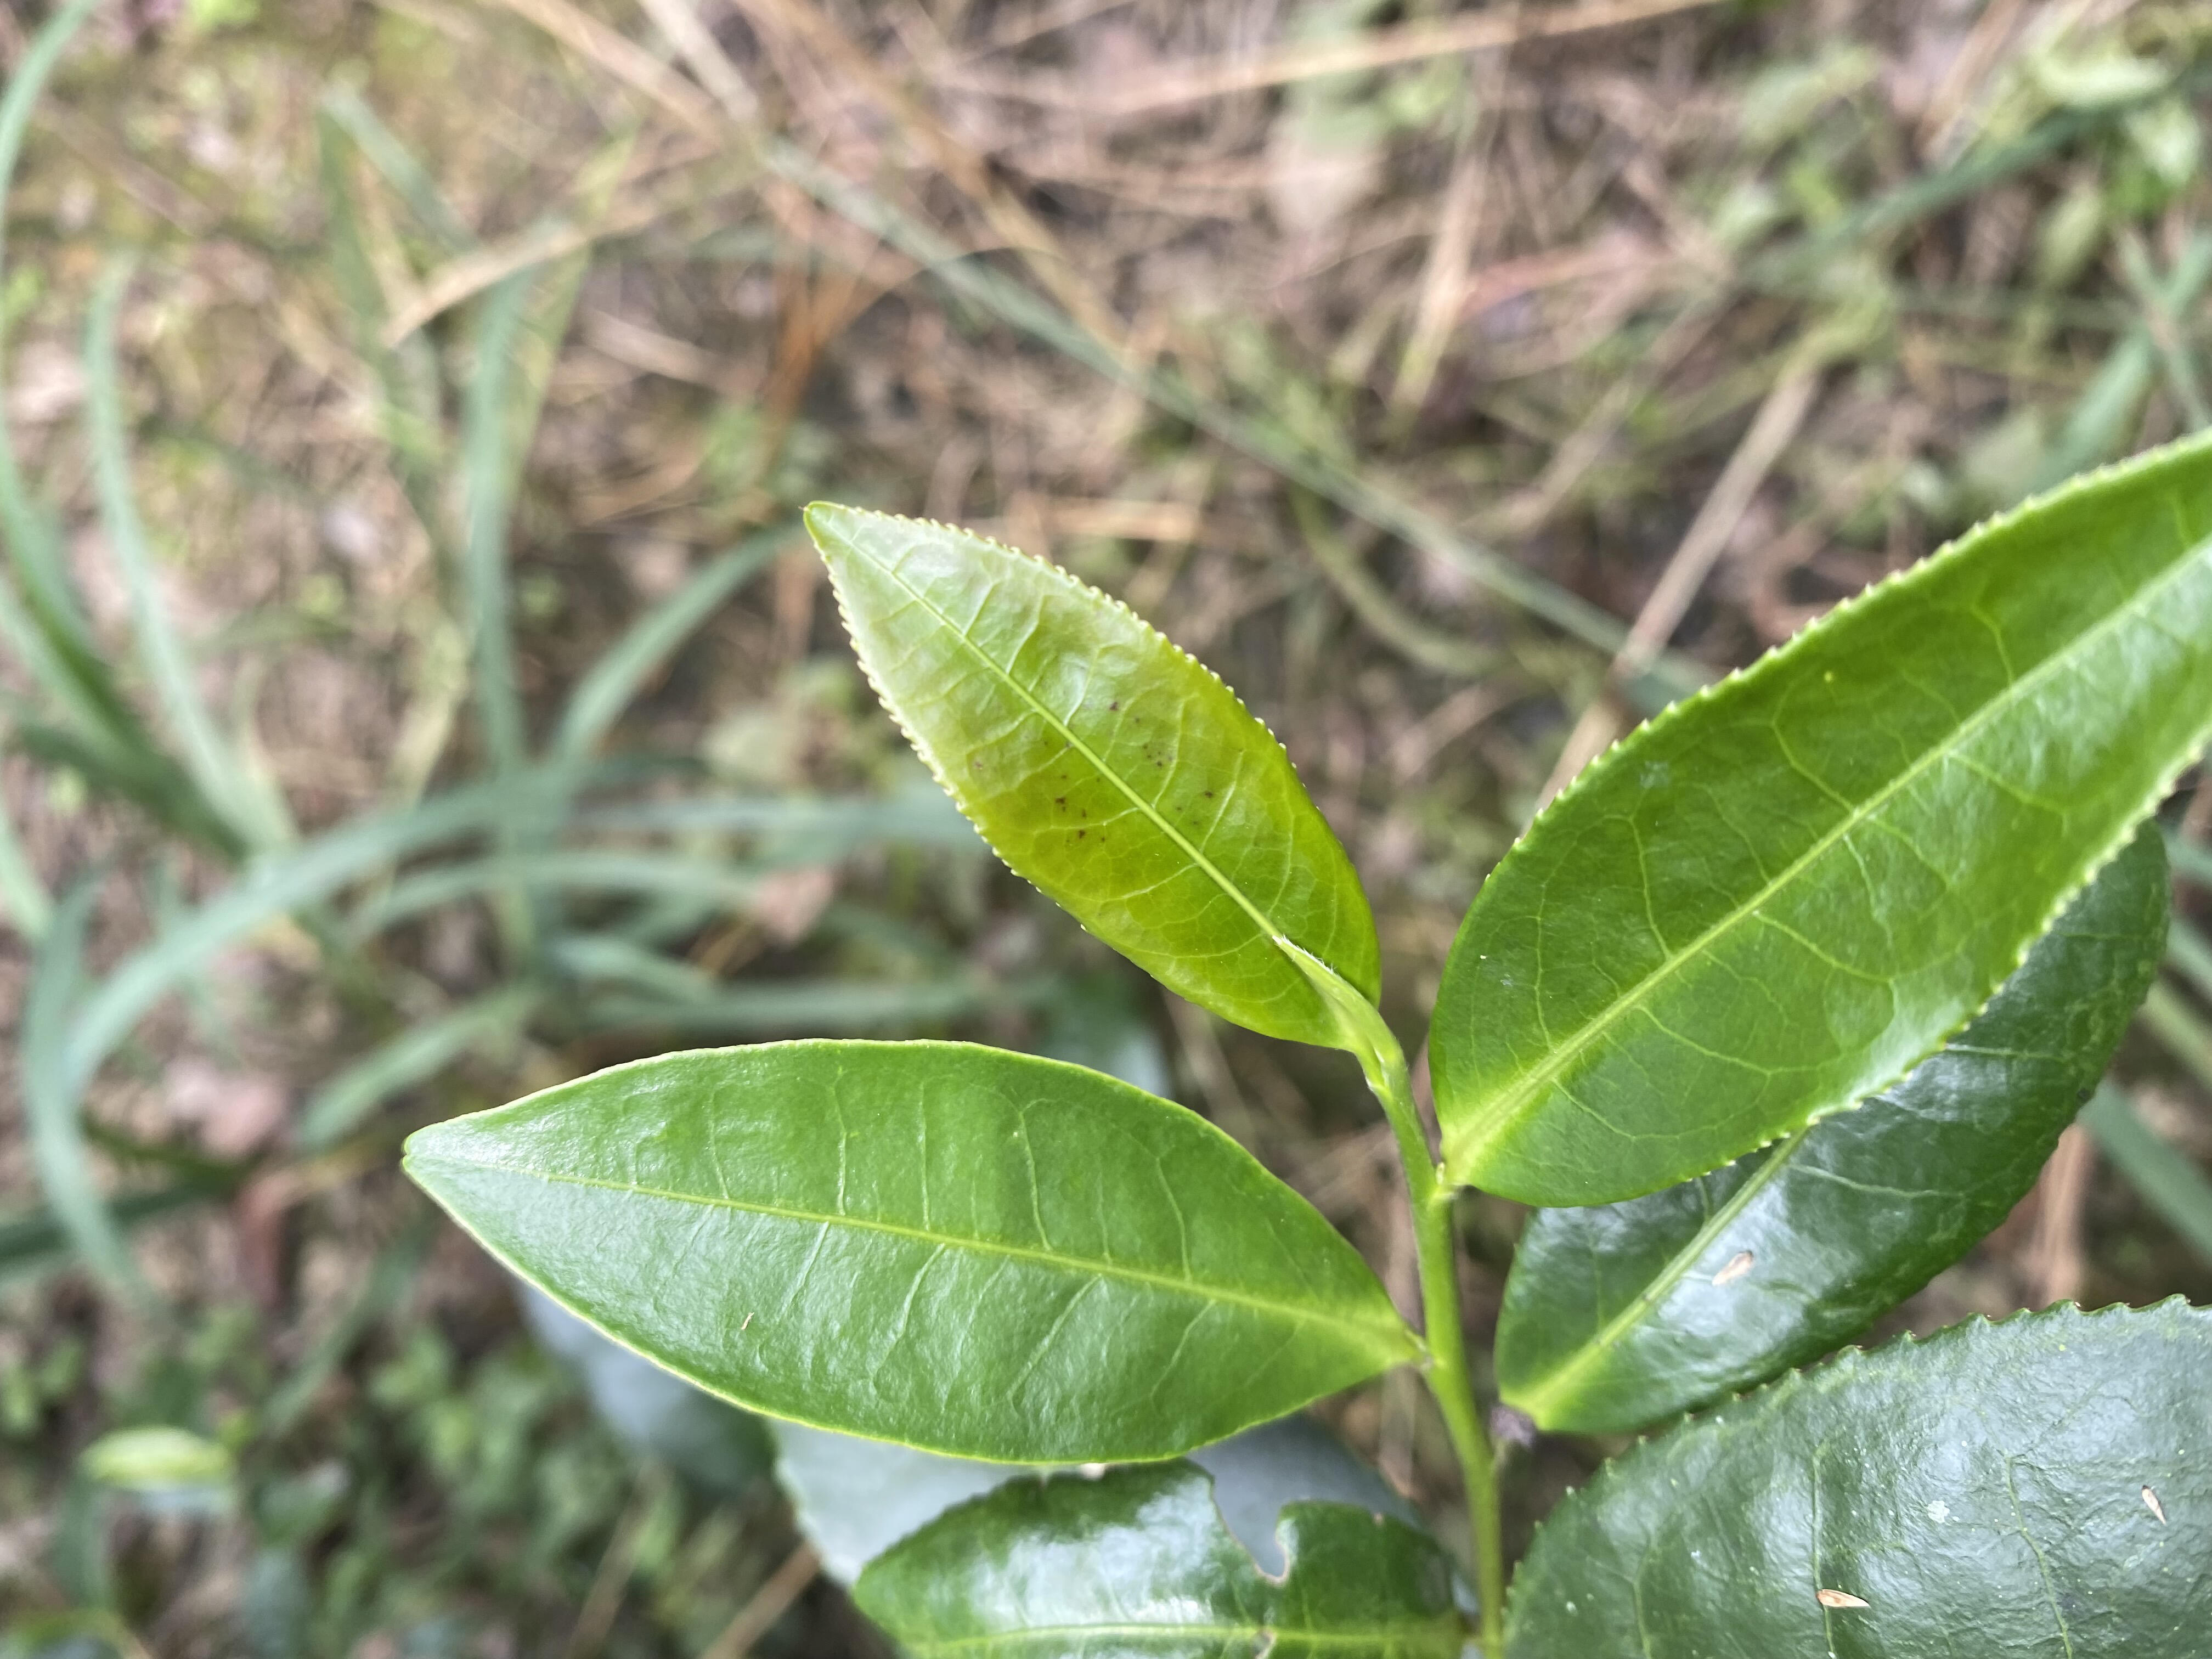chihuo_low: (852, 1464, 1467, 1654)
healthy: (1428, 429, 2210, 1208), (401, 1037, 1404, 1467)
tanju_low: (801, 498, 1381, 1056)
